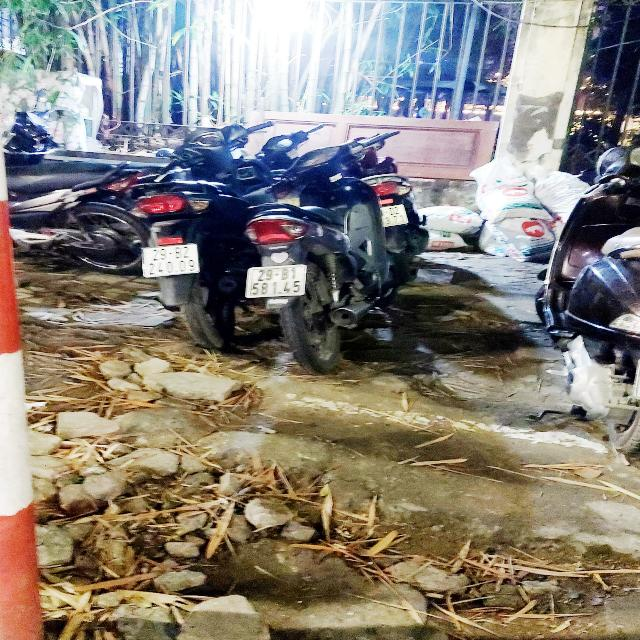license_plate: (140, 244, 202, 279), (246, 266, 308, 300)
